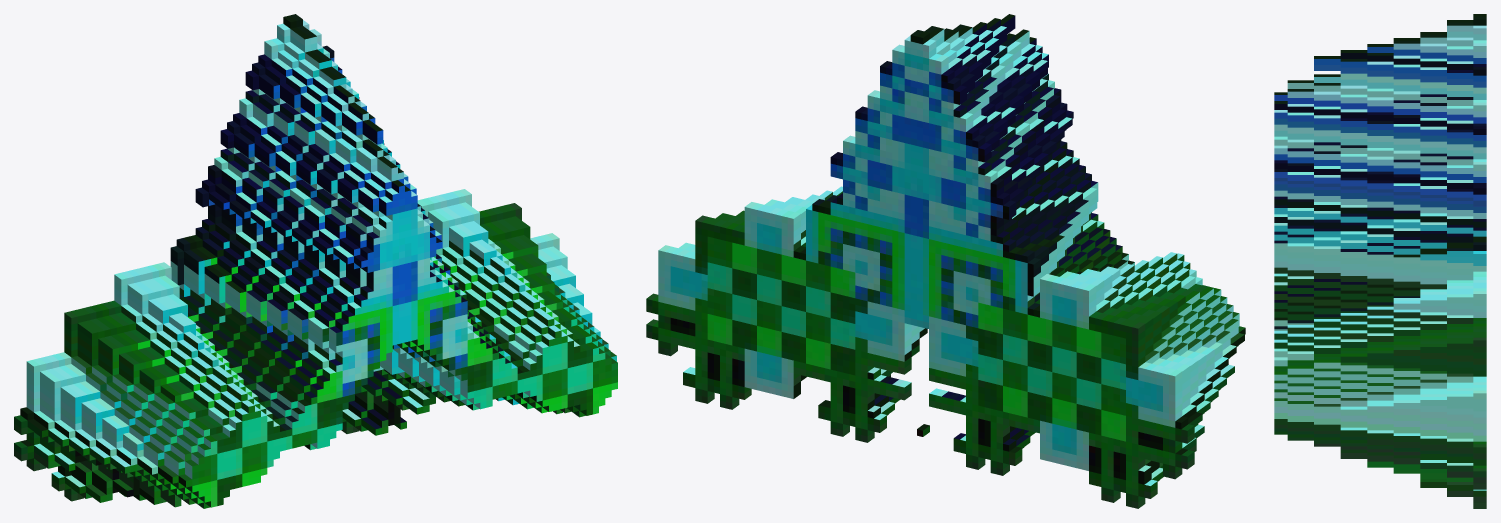
Rendered from dreamlingP12.obj.
The picture shows the model from 3 angles, left to right: view 1: azimuth 30°, elevation 25°; view 2: azimuth 150°, elevation 25°; view 3: azimuth 270°, elevation 25°; orthographic projection. The views are drawn at different scales.
Size of the model in its own units: 88 by 65 by 32.
